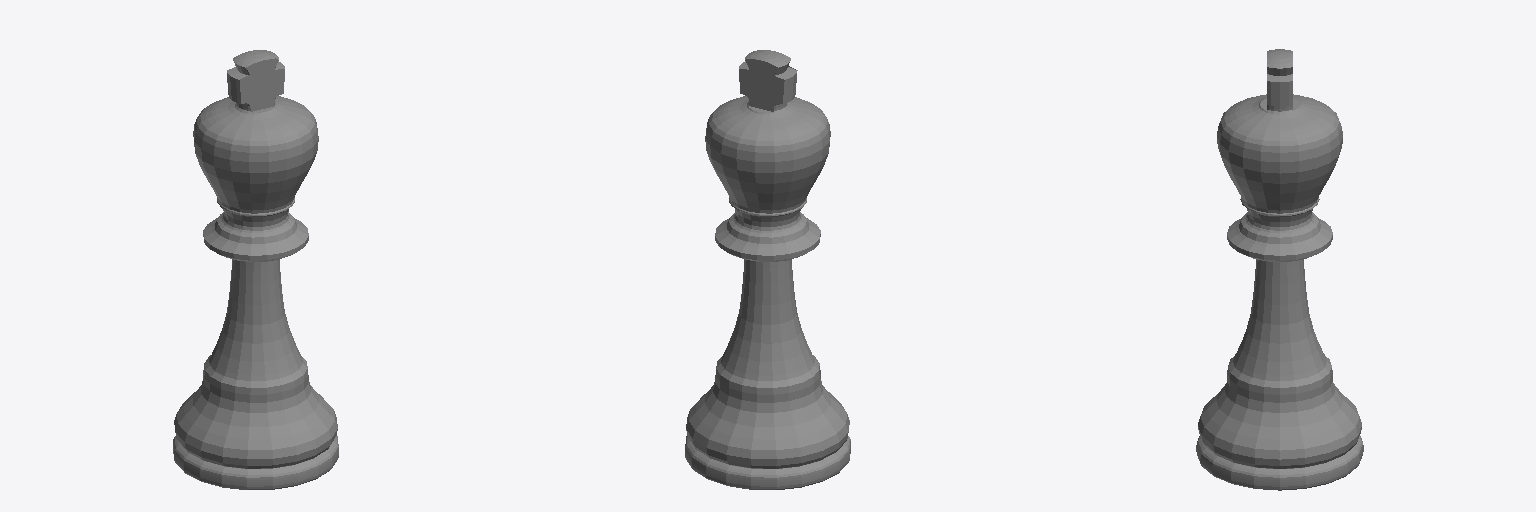
Rendered from preto-rei.obj.
3 views of the same model, side by side, from view 1: azimuth 30°, elevation 25°; view 2: azimuth 150°, elevation 25°; view 3: azimuth 270°, elevation 25° (orthographic).
Visible parts, largest first — view 1: RE01; view 2: RE01; view 3: RE01.
Boxes of the visible parts, x1,y1,x2,y2 form: RE01: [173, 50, 338, 489]; RE01: [685, 50, 850, 489]; RE01: [1196, 49, 1363, 490].
Size of the model in its own units: 186 by 494 by 186.